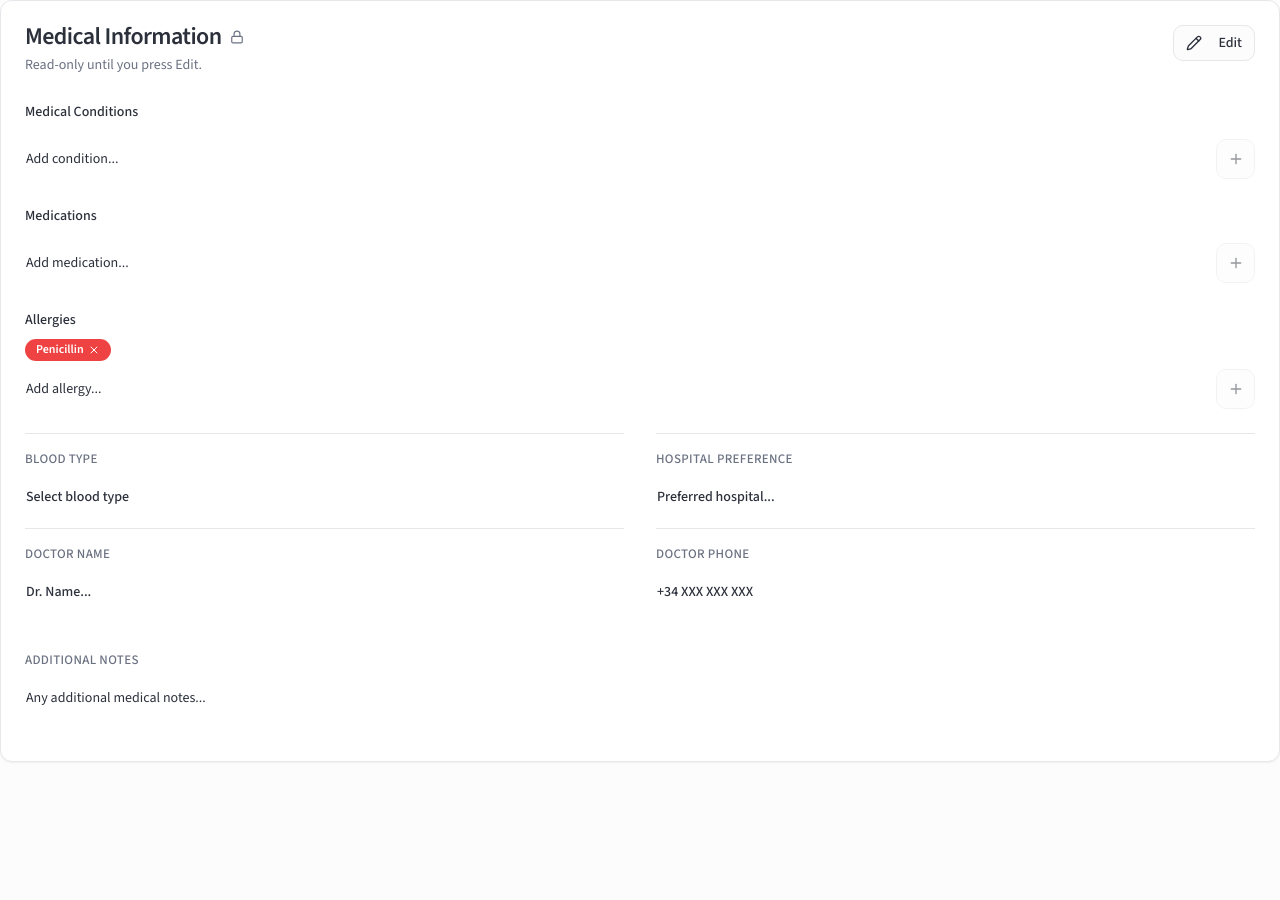
Scenario: the medical card › a chip added and then cancelled is warned about and put back
Click the button with test id "medical-card-edit" at [1214, 43], box [1173,25,1255,61]
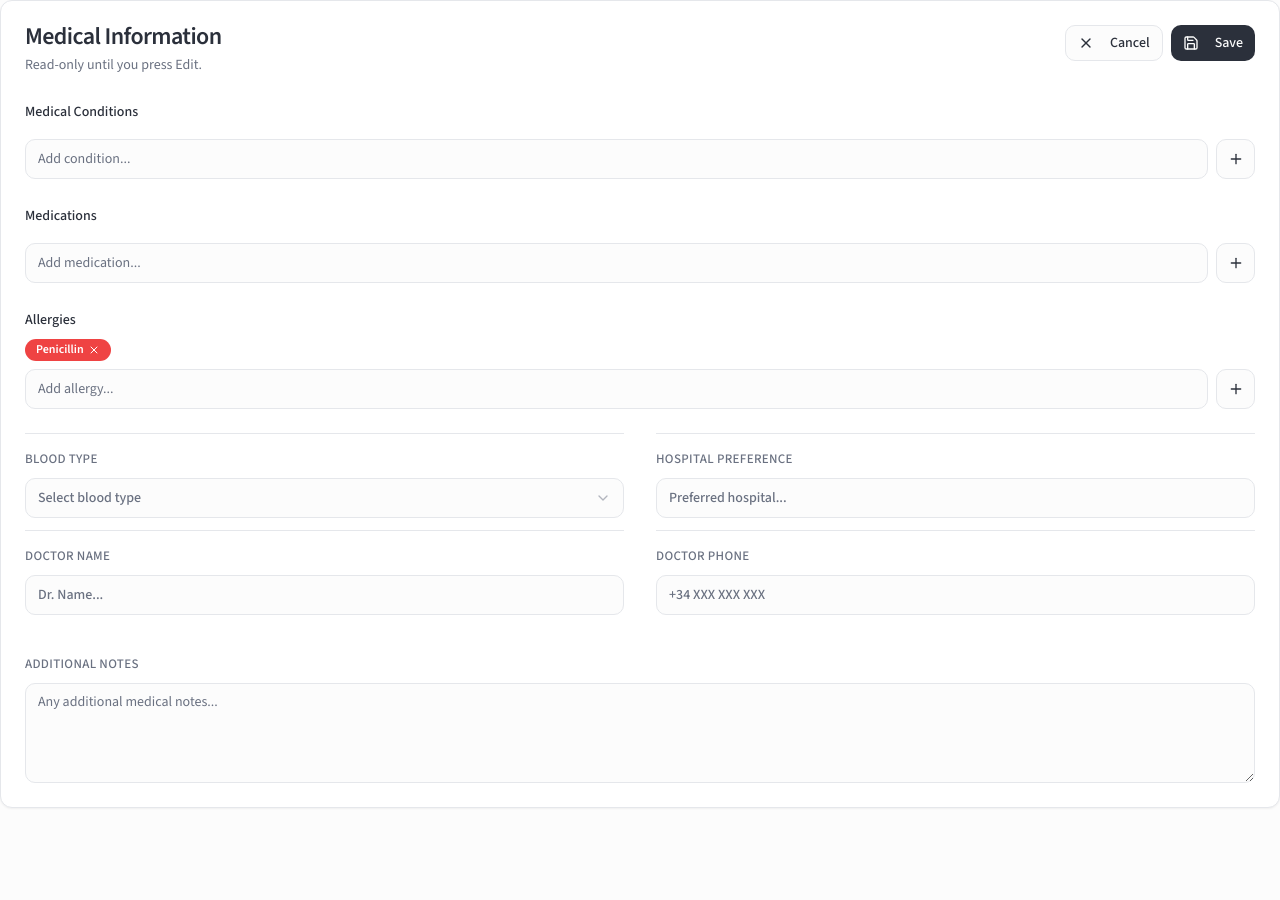
Type "Shellfish" into the field with placeholder "Add allergy..." at [617, 389], box [25,369,1208,409]
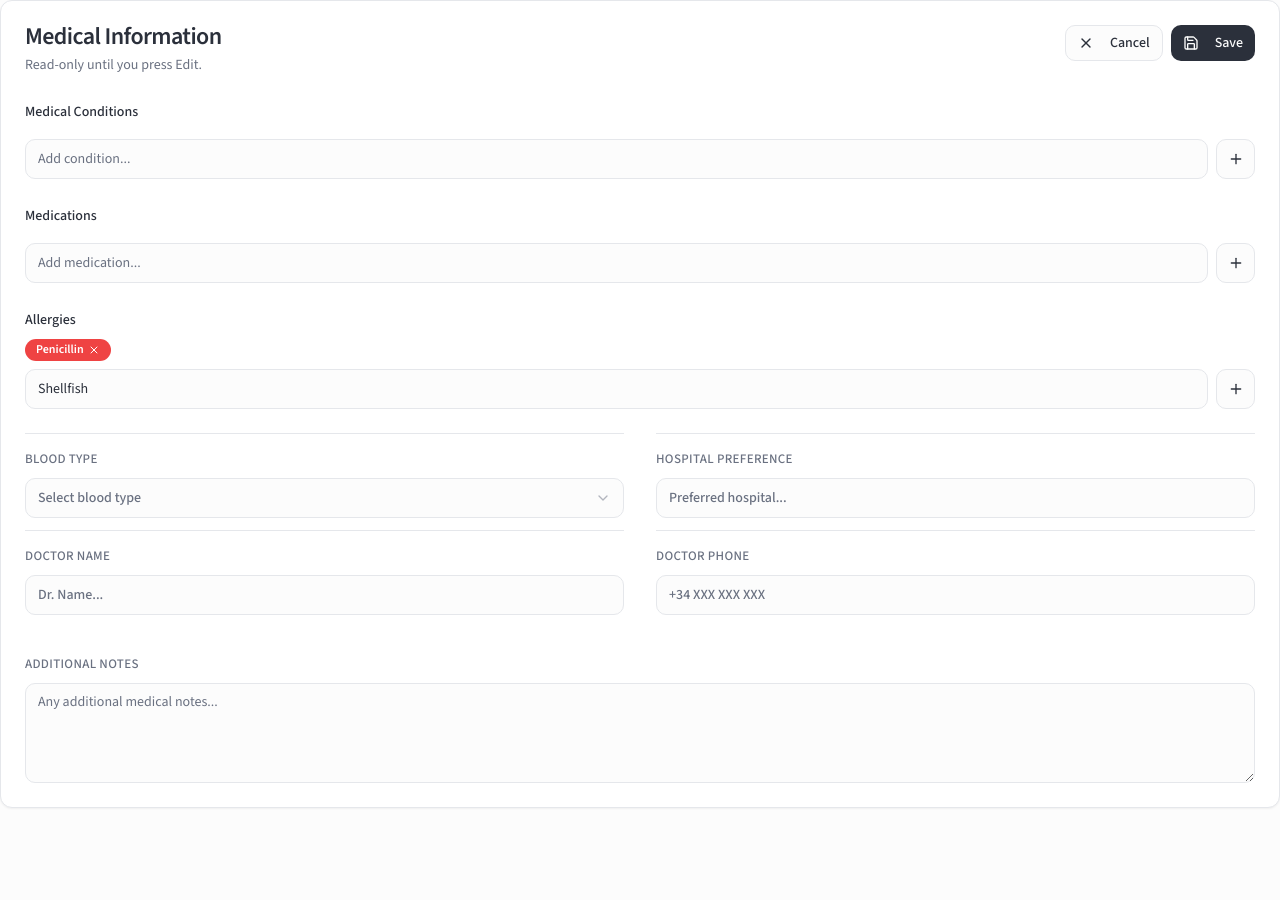
Click the button named "Add allergy" at [1236, 389], box [1216,369,1255,409]
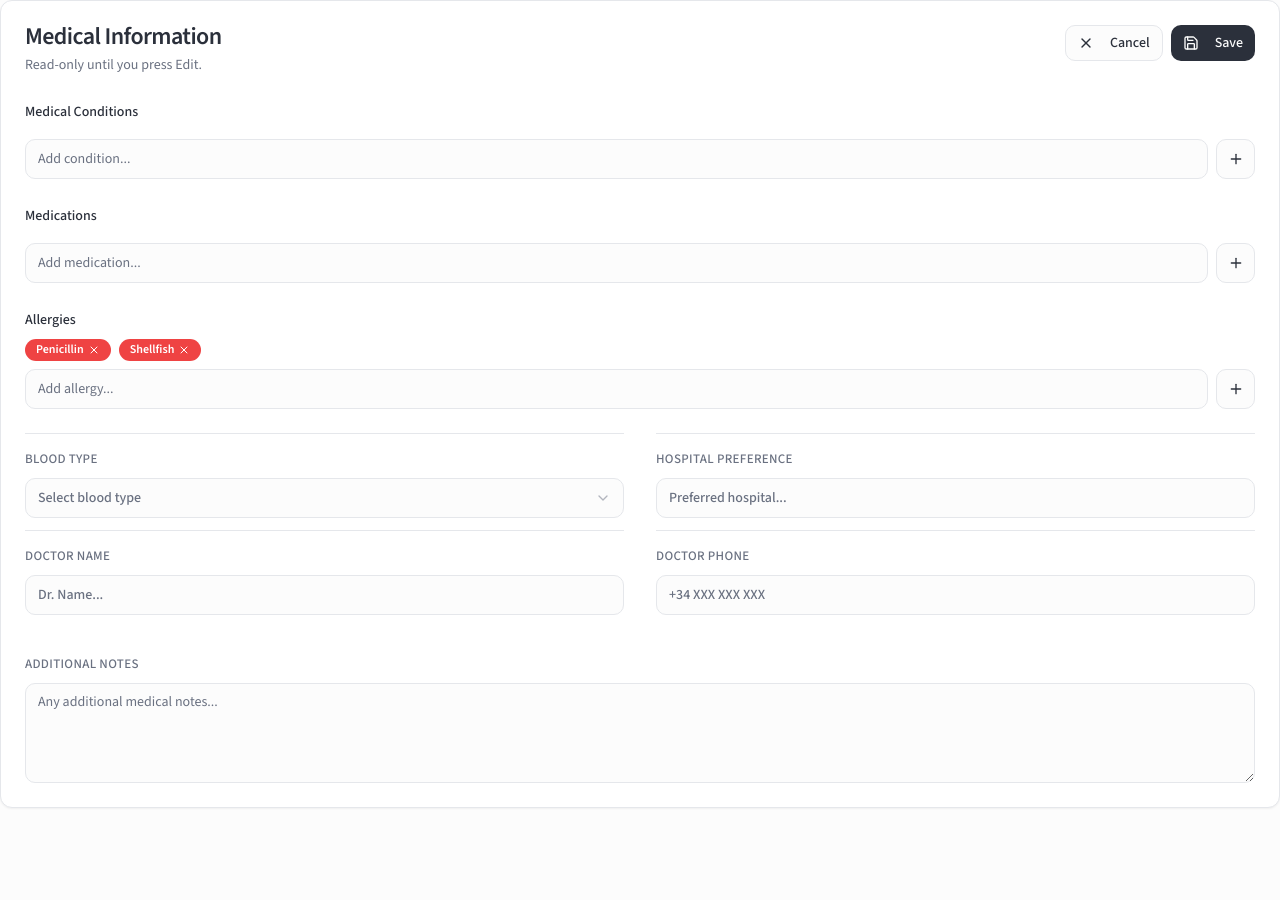
Now the text "Shellfish" is shown, box [119,339,201,361]
Click the button with test id "medical-card-cancel" at [1114, 43], box [1065,25,1163,61]
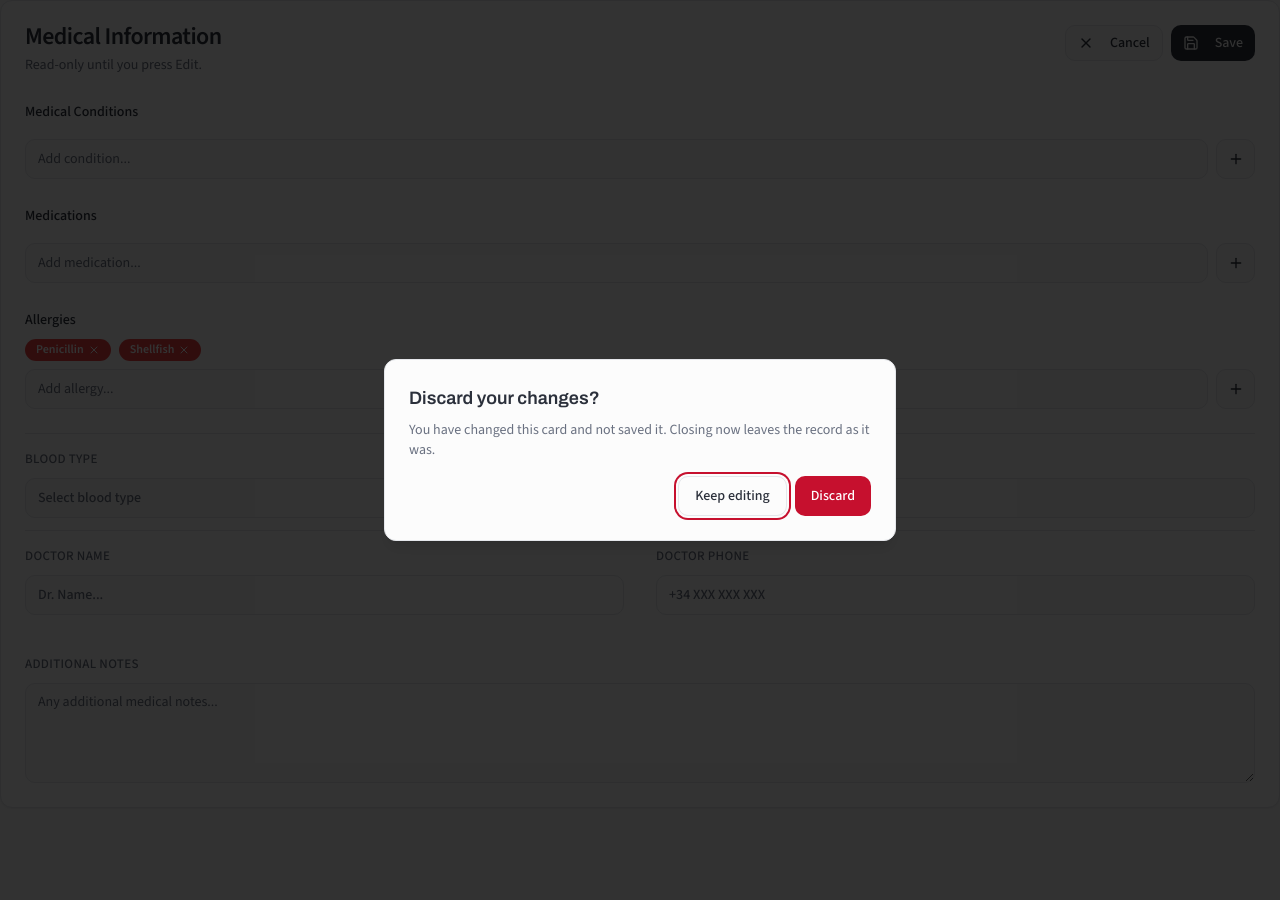
Now the button with test id "medical-card-discard" is shown
Click the button with test id "medical-card-discard" at [833, 496], box [795,476,871,516]
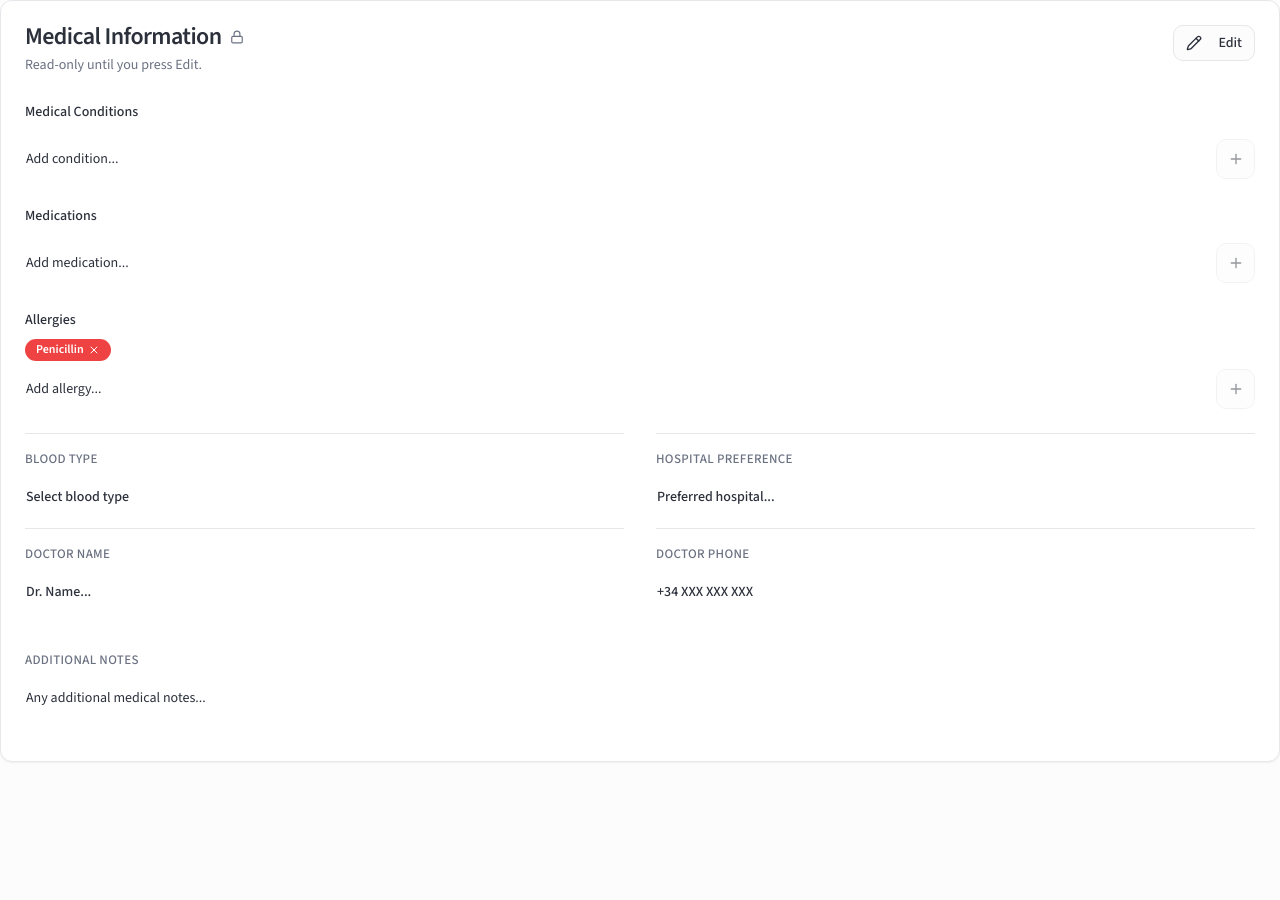
Expected: the text "Penicillin" is shown, [25,339,111,361]
Now the text "Shellfish" is gone
